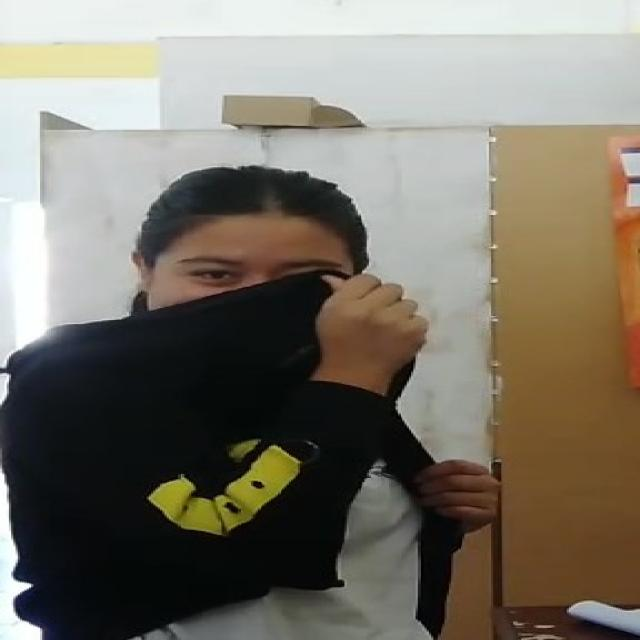8_ropa_rostro: (135, 269, 384, 473)
